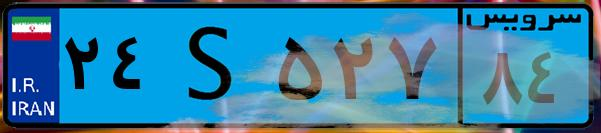2: (330, 28, 385, 110), (57, 26, 110, 100)
4: (525, 38, 570, 115), (110, 28, 158, 98)
5: (270, 28, 330, 110)
7: (385, 28, 445, 110)
8: (475, 38, 525, 113)
S: (158, 12, 270, 120)
